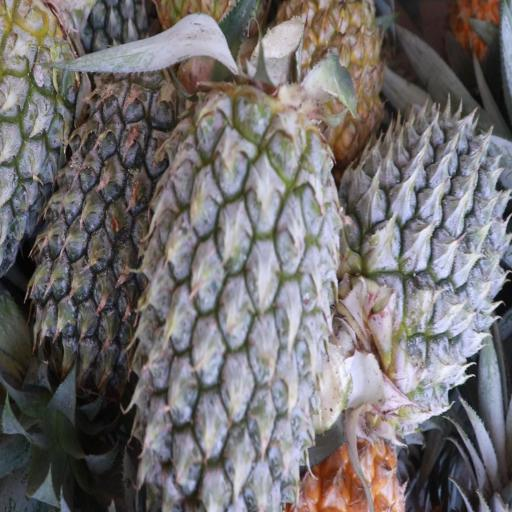Pineapple - v8 v1: (278, 0, 385, 145)
